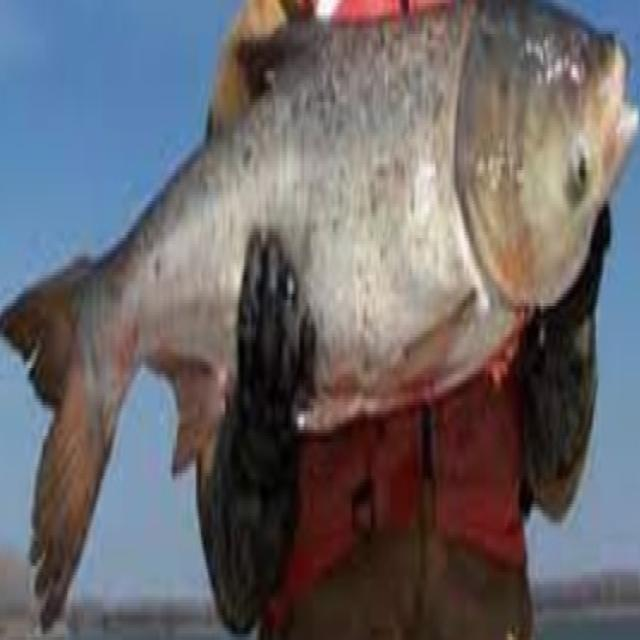Big-Head-Carp: (27, 18, 632, 618)
